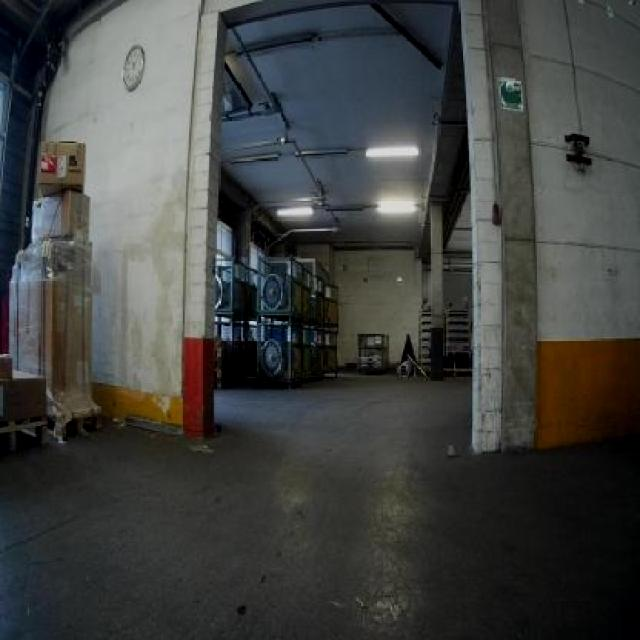floor: (0, 374, 637, 637)
pallets: (0, 353, 45, 448)
